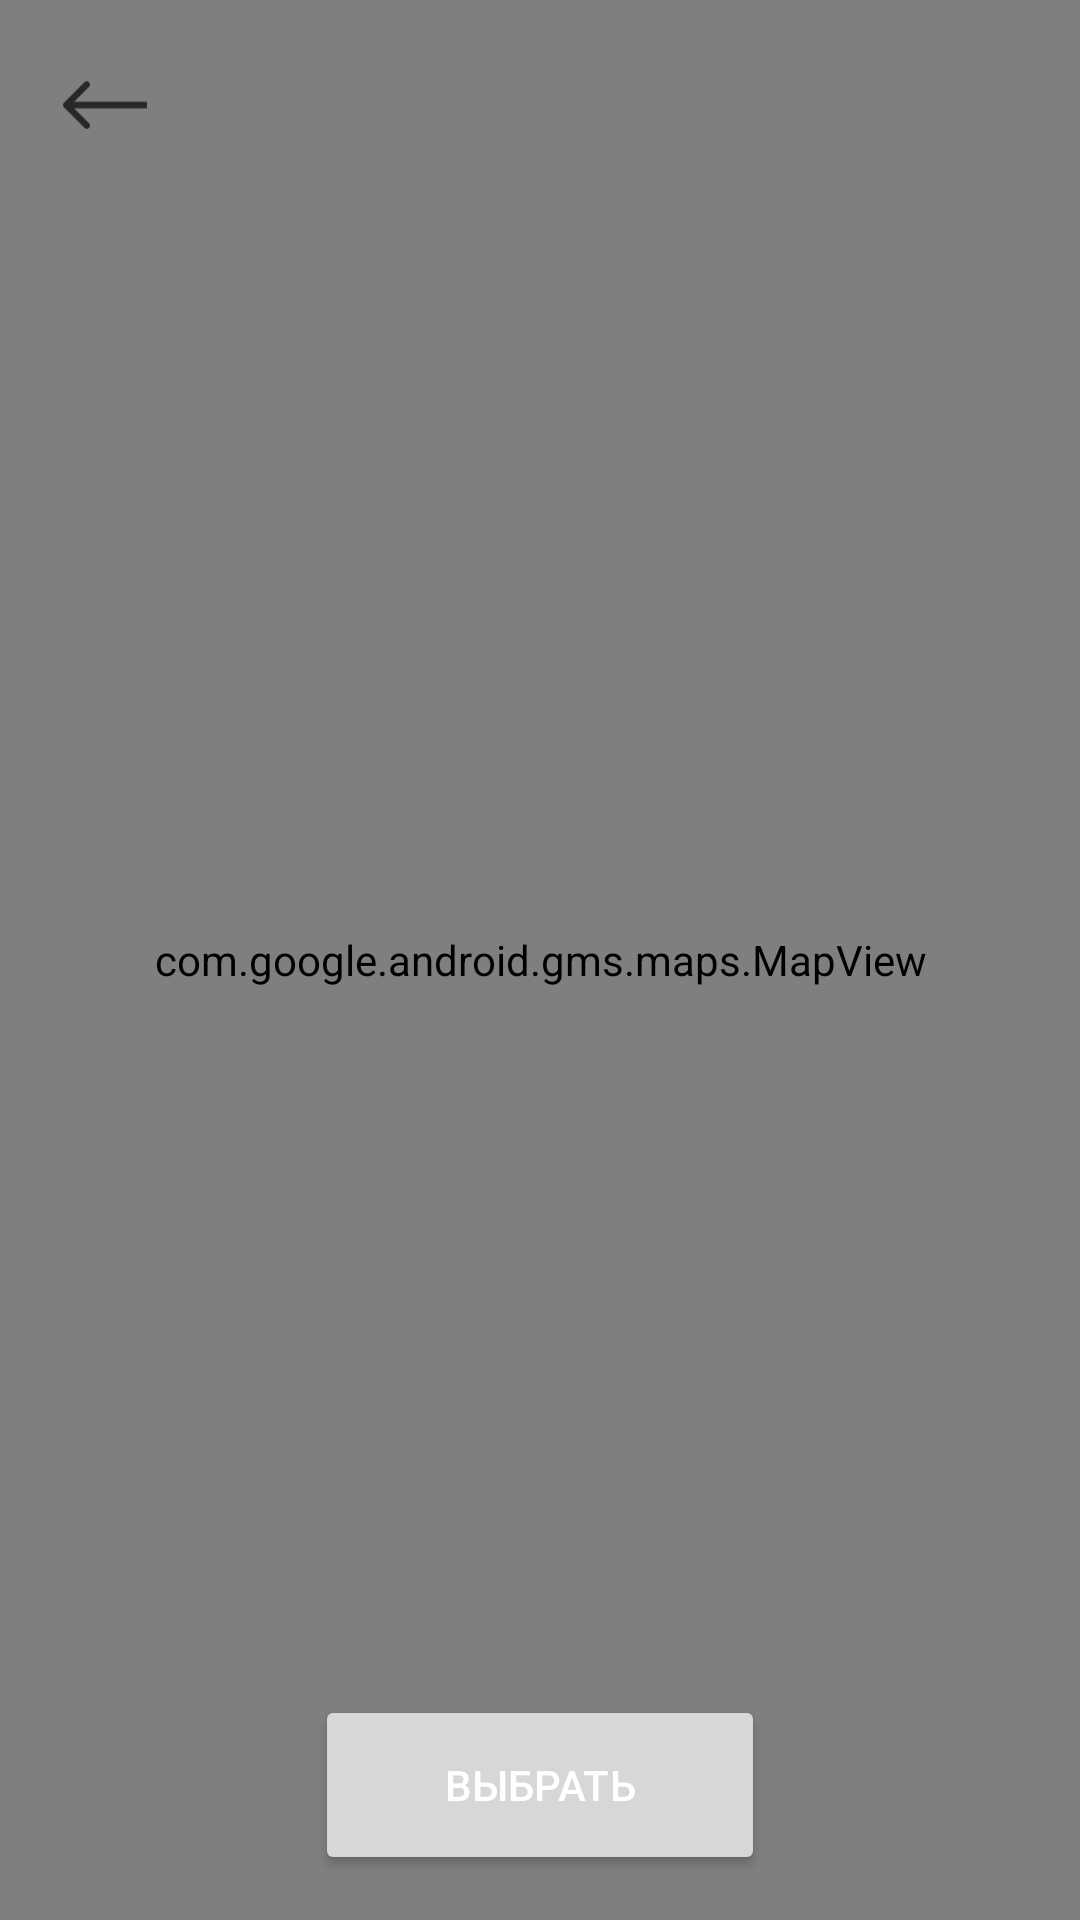

Where icons sit on this 1080px x 1920px app screen, as bbox=[x1, y1, x2, y2]:
go back: bbox=[63, 81, 147, 129]
